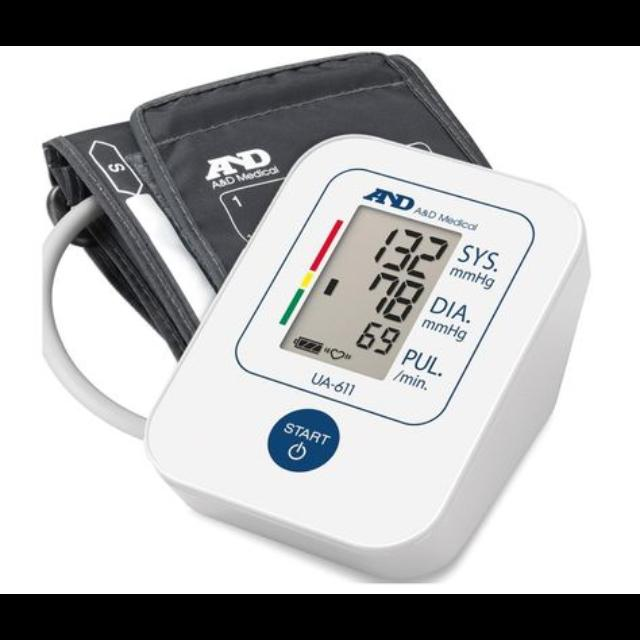Blood-Pressure-Monitor: (145, 136, 589, 578)
